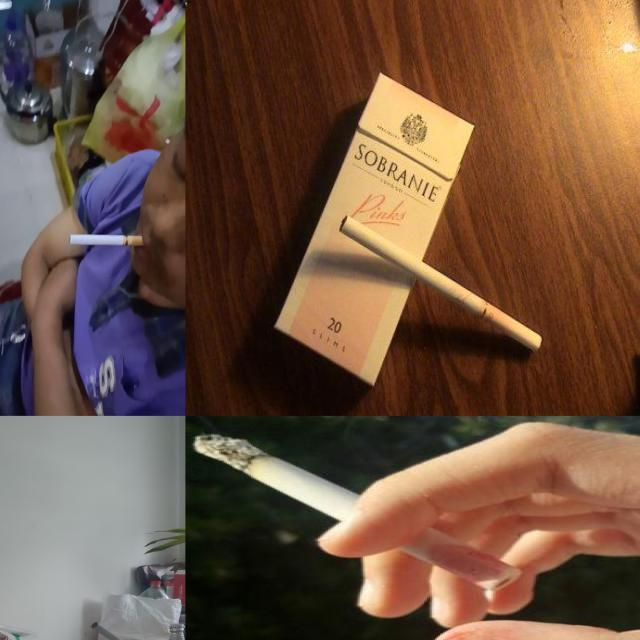smoking: (191, 432, 523, 589), (338, 215, 544, 352), (89, 622, 152, 640), (70, 234, 144, 247)
